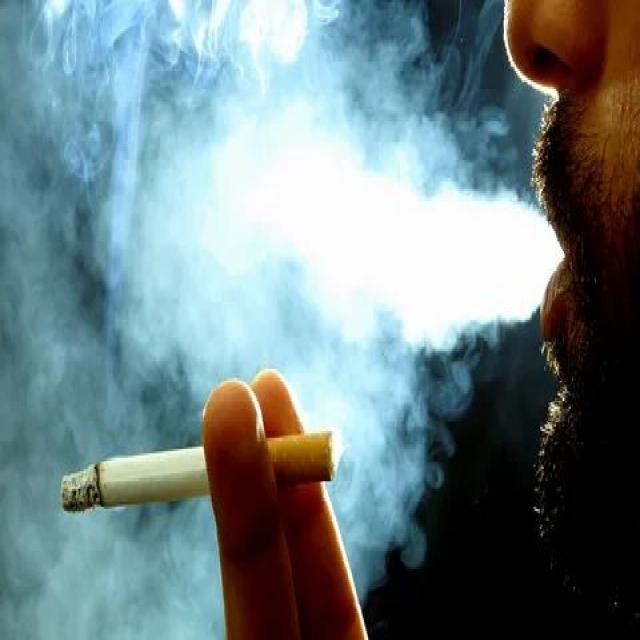smoke: (60, 427, 341, 529)
